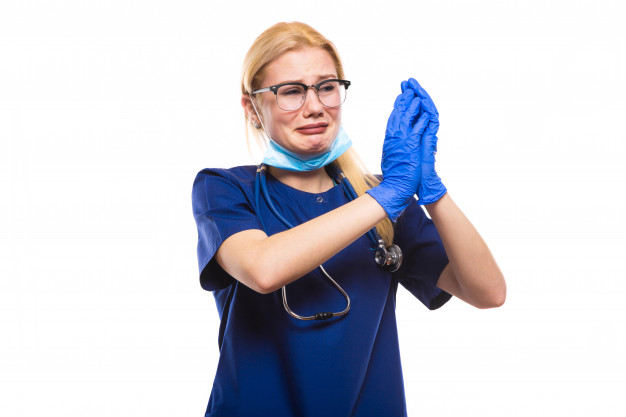mask_weared_incorrect: (238, 39, 356, 176)
